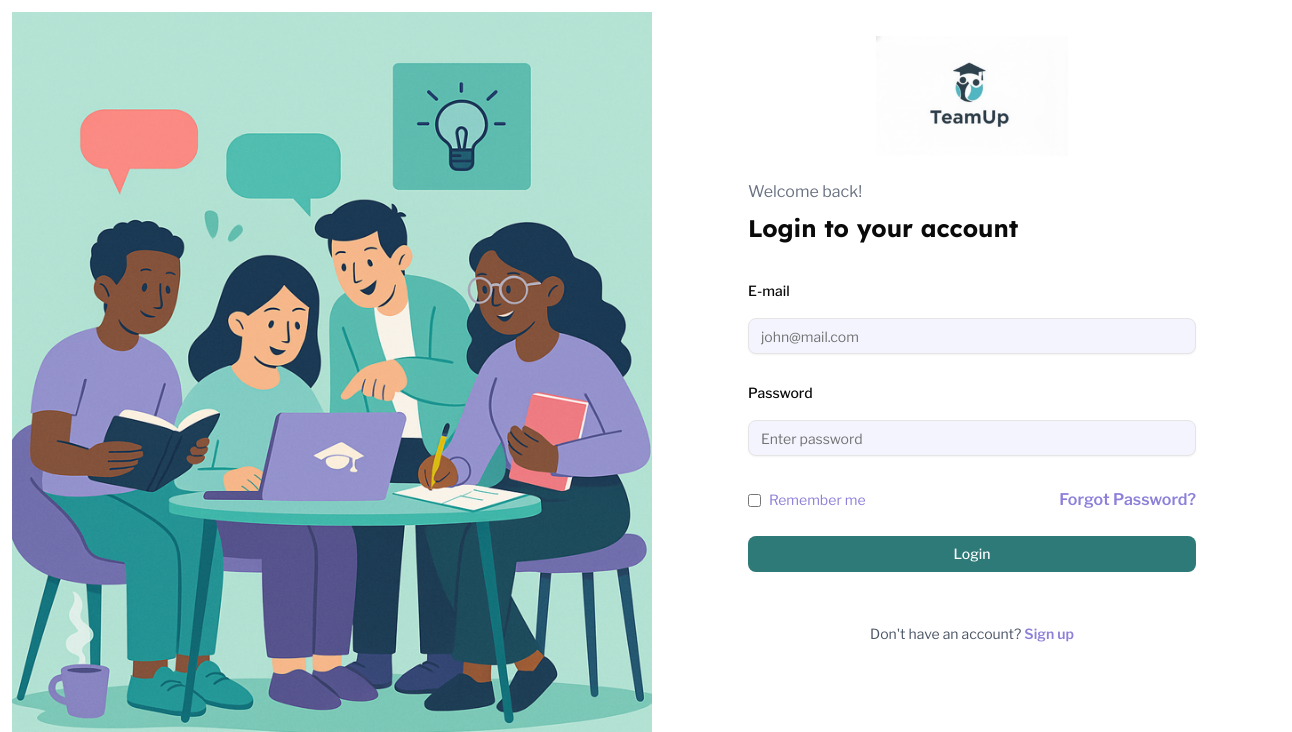
Test case: Login Page E2E Tests › Form Validation - Client Side › should show validation error for invalid email format
The width and height of the screenshot is (1292, 732).
Type "invalid-email" into the field with placeholder "john@mail.com" at [972, 336], box [748,318,1196,354]
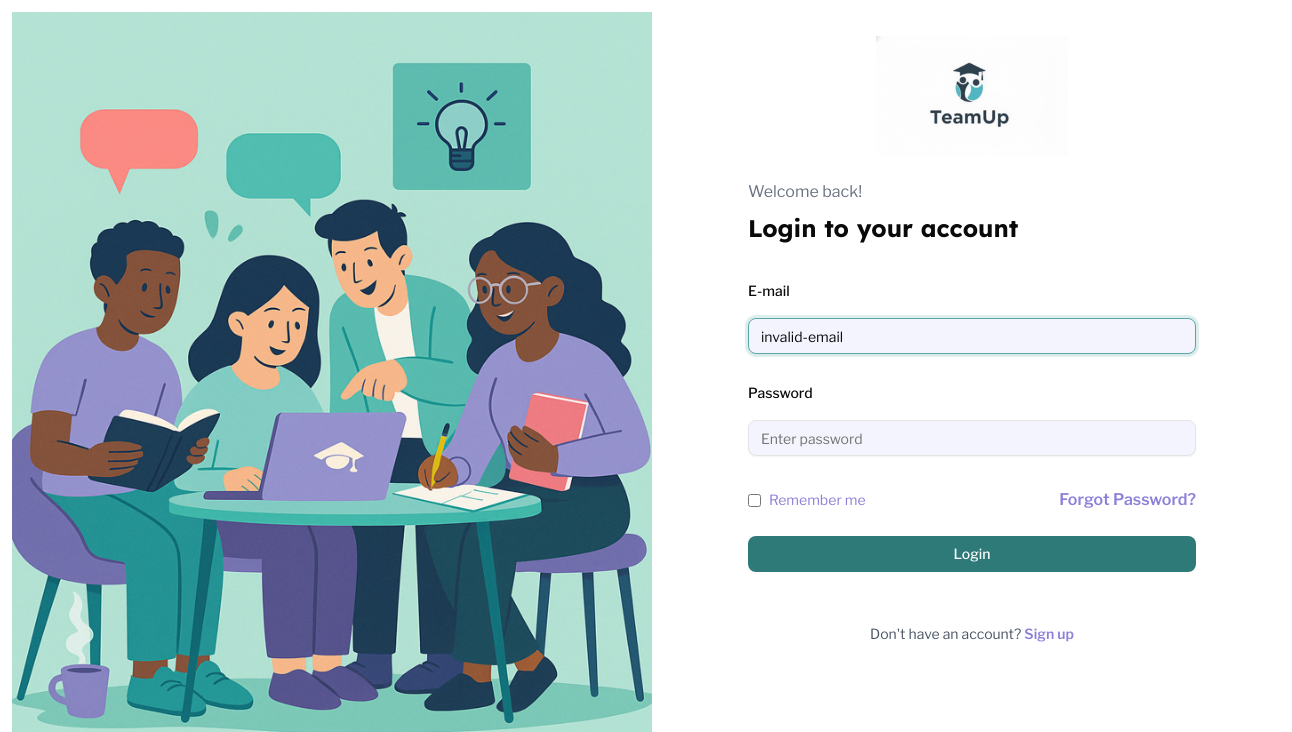
Note: Type a valid password to trigger validation
Type "123456" into the password field with placeholder "Enter password" at [972, 438], box [748,420,1196,456]
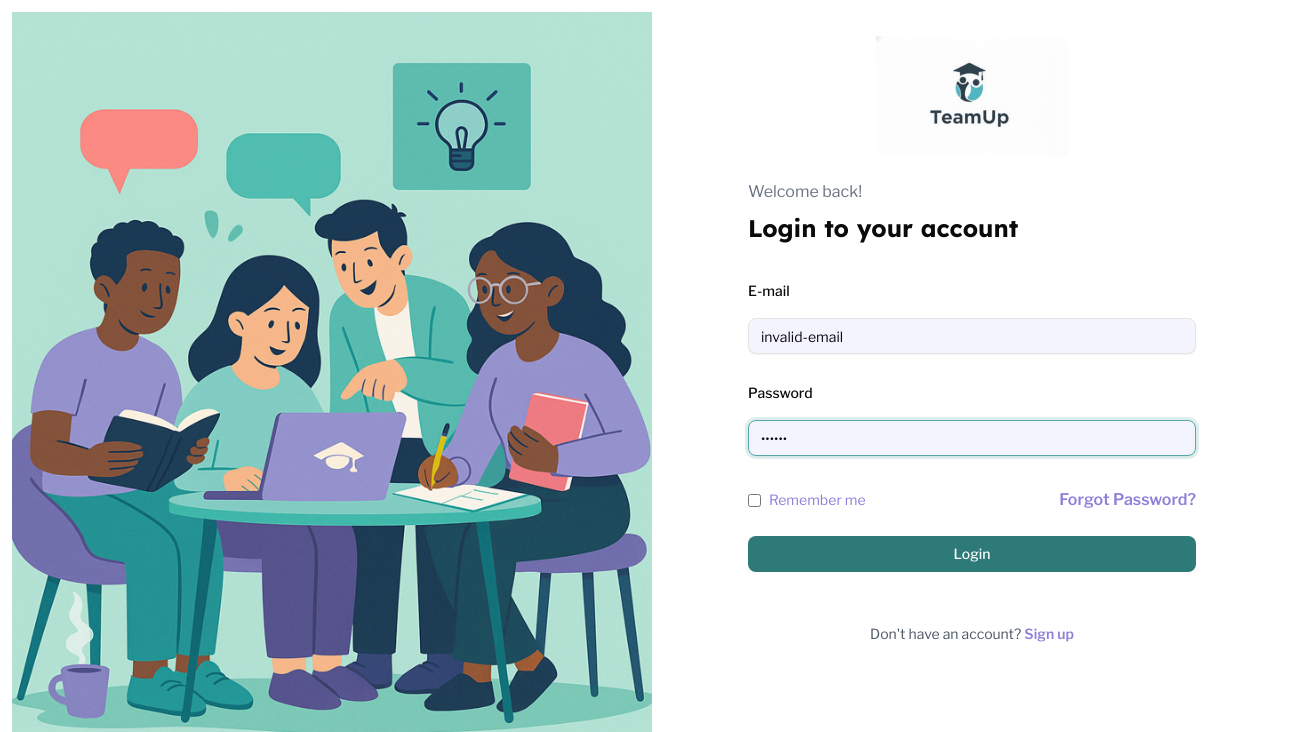
Note: Attempt to submit the form
Click the button "Login" at [972, 554], box [748,536,1196,572]
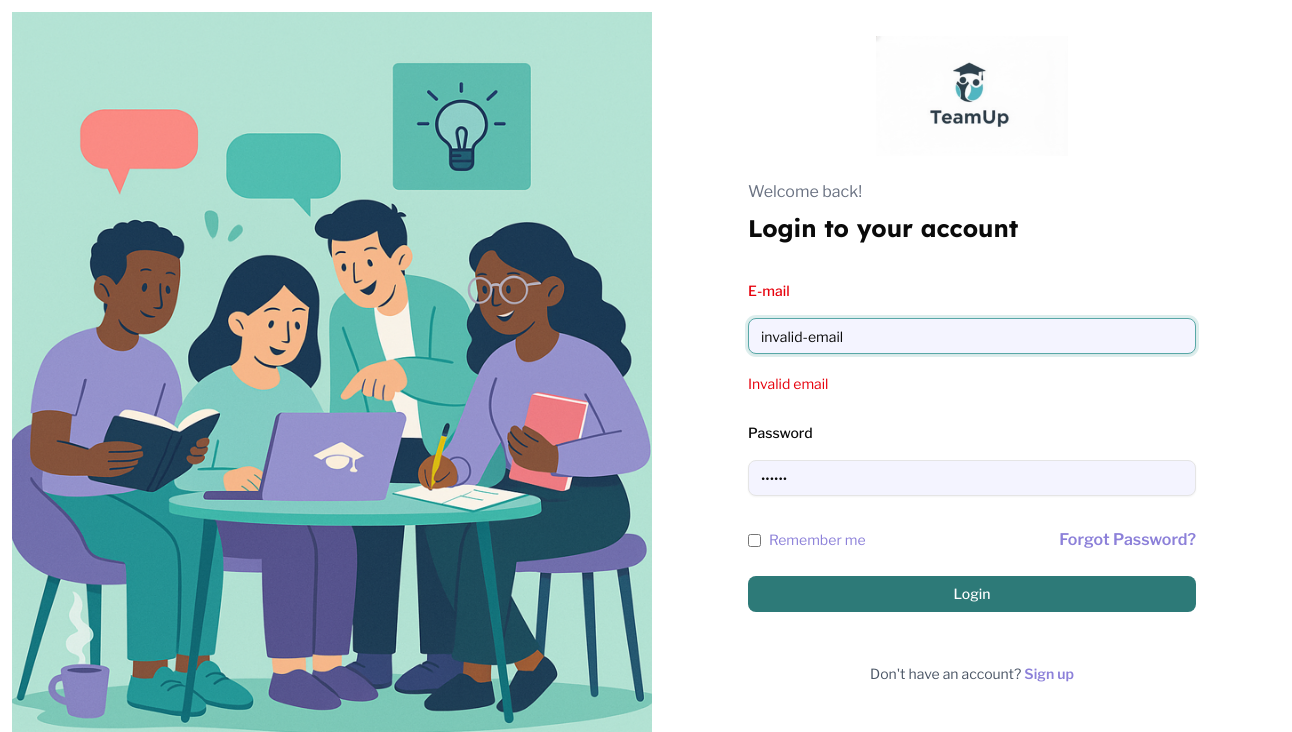
Now the text "Invalid email" is shown, box [748,375,828,392]
